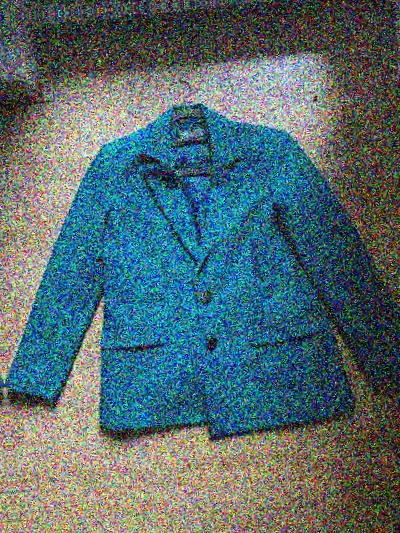Blazer: (0, 83, 400, 474)
